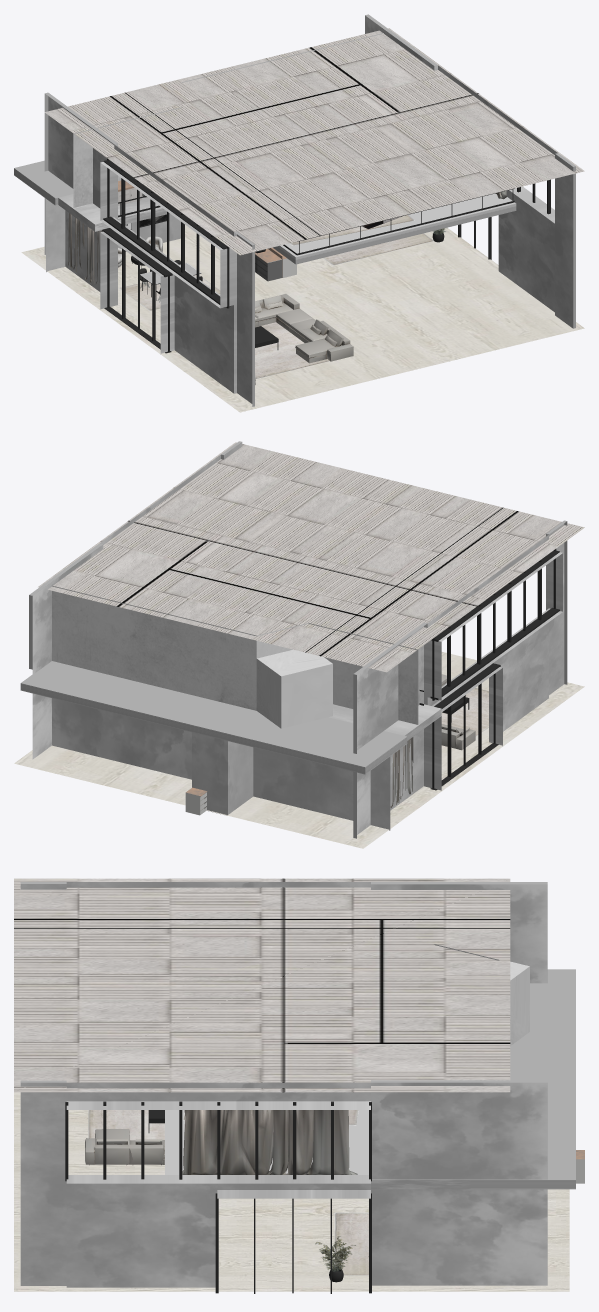
Rendered from interior.glb.
The picture shows the model from 3 angles, top to bottom: view 1: azimuth 30°, elevation 25°; view 2: azimuth 150°, elevation 25°; view 3: azimuth 270°, elevation 25°; orthographic projection. The views are drawn at different scales.
Visible parts, largest first — view 1: Plane.012, Plane, Plane.003, node_0.010_Material.002_0, Cube, node_0_Material.005_0, Plane.001, Plane.014, Plane.005, Plane.002, node_0.002_Material.013_0, Plane.011 (+9 smaller); view 2: Plane.012, Plane.002, Plane.003, Plane.001, Cube, Plane, node_0.010_Material.002_0, Plane.005, Plane.004, Plane.014, Plane.006, node_0.002_Material.013_0 (+4 smaller); view 3: Plane.012, node_0.010_Material.002_0, Plane, Cube, node_0.014_Material.013_0, Plane.003, node_0.010_Material.004_0, node_0_Material.005_0, Plane.011, Plane.014, Plane.002, Cube.025.
Part boxes in pixels (x1,y1,x2,y2): Plane.012: [44, 28, 584, 255]; Plane: [21, 225, 584, 412]; Plane.003: [44, 92, 254, 406]; node_0.010_Material.002_0: [365, 14, 575, 328]; Cube: [14, 160, 516, 264]; node_0_Material.005_0: [255, 294, 353, 363]; Plane.001: [46, 199, 180, 272]; Plane.014: [255, 322, 329, 378]; Plane.005: [107, 158, 229, 308]; Plane.002: [73, 31, 391, 207]; node_0.002_Material.013_0: [68, 213, 102, 284]; Plane.011: [323, 233, 433, 265]; Plane.012: [38, 442, 584, 672]; Plane.002: [52, 585, 418, 728]; Plane.003: [353, 520, 567, 838]; Plane.001: [52, 698, 390, 830]; Cube: [20, 661, 441, 774]; Plane: [14, 652, 584, 848]; node_0.010_Material.002_0: [29, 441, 242, 759]; Plane.005: [432, 549, 556, 700]; Plane.004: [432, 673, 495, 788]; Plane.014: [441, 688, 488, 736]; Plane.006: [430, 607, 559, 700]; node_0.002_Material.013_0: [390, 737, 413, 807]; Plane.012: [14, 878, 510, 1092]; node_0.010_Material.002_0: [20, 1080, 547, 1287]; Plane: [14, 1092, 569, 1291]; Cube: [165, 969, 575, 1189]; node_0.014_Material.013_0: [182, 1110, 357, 1174]; Plane.003: [20, 882, 547, 983]; node_0.010_Material.004_0: [65, 1101, 371, 1293]; node_0_Material.005_0: [85, 1129, 164, 1165]; Plane.011: [334, 1212, 368, 1275]; Plane.014: [88, 1110, 164, 1140]; Plane.002: [434, 944, 529, 1045]; Cube.025: [315, 1236, 355, 1282].
Size of what is drawn, in the model's own units: 11.54 by 5.05 by 12.58.
Materials: 21 (20 with a texture image).
